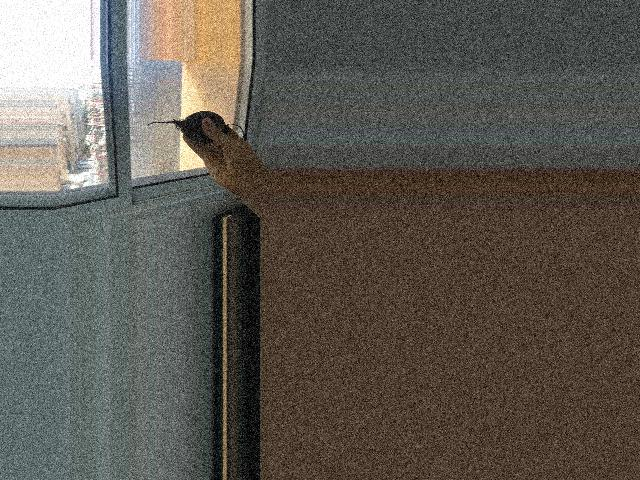beet: (146, 111, 243, 153)
